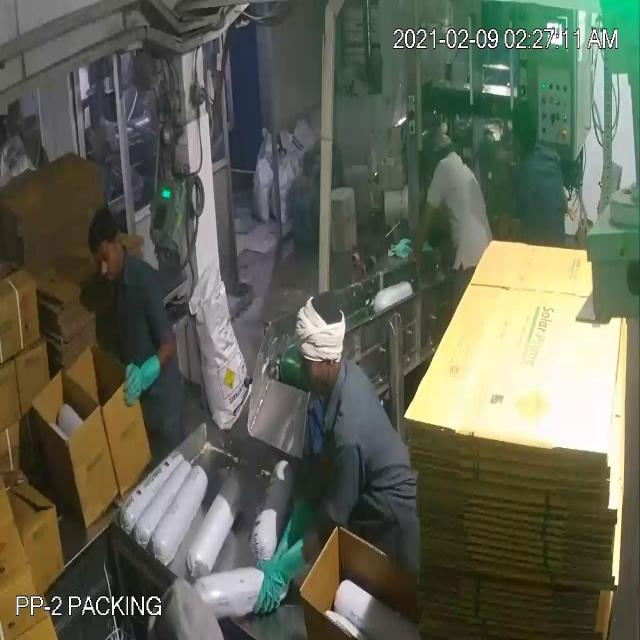gloves: (118, 344, 182, 409), (251, 541, 311, 610)
no-gloves: (407, 190, 439, 283)
